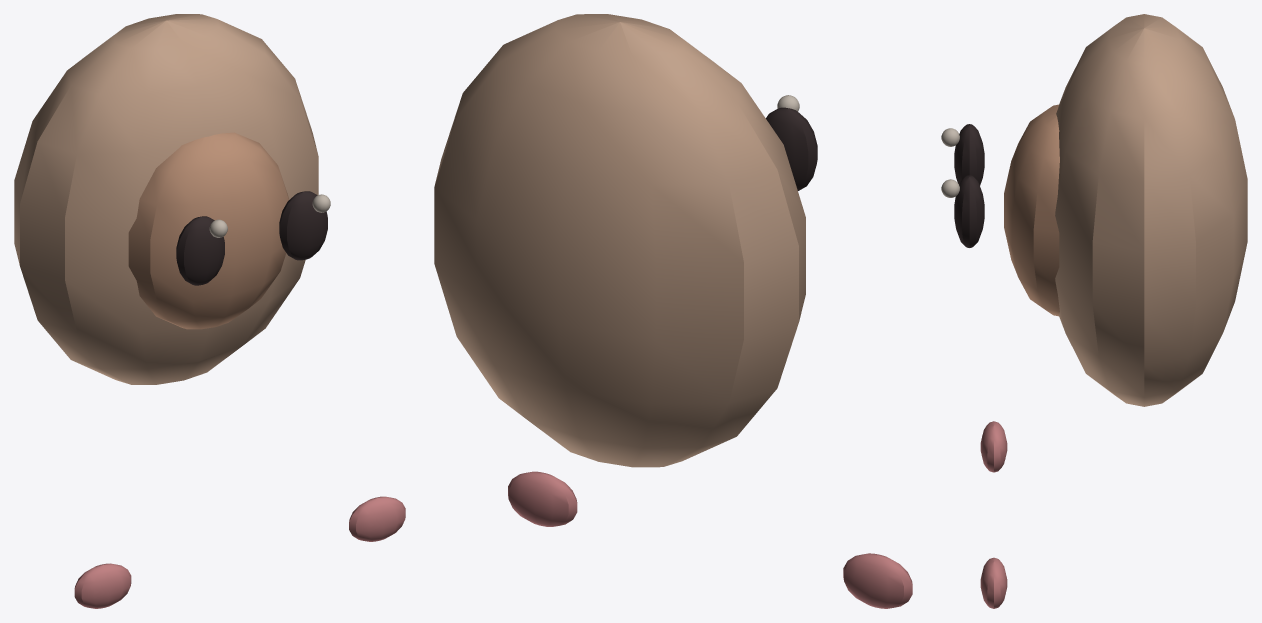
File: paa48f411.glb
The picture shows the model from 3 angles, left to right: view 1: azimuth 30°, elevation 25°; view 2: azimuth 150°, elevation 25°; view 3: azimuth 270°, elevation 25°; orthographic projection. The views are drawn at different scales.
Visible parts, largest first — view 1: pet_paa48f411; view 2: pet_paa48f411; view 3: pet_paa48f411.
Part boxes in pixels (x1,y1,x2,y2): pet_paa48f411: (14, 14, 405, 608); pet_paa48f411: (434, 14, 912, 608); pet_paa48f411: (941, 14, 1247, 608).
Size of the model in its own units: 0.2896 by 0.4171 by 0.2277.
